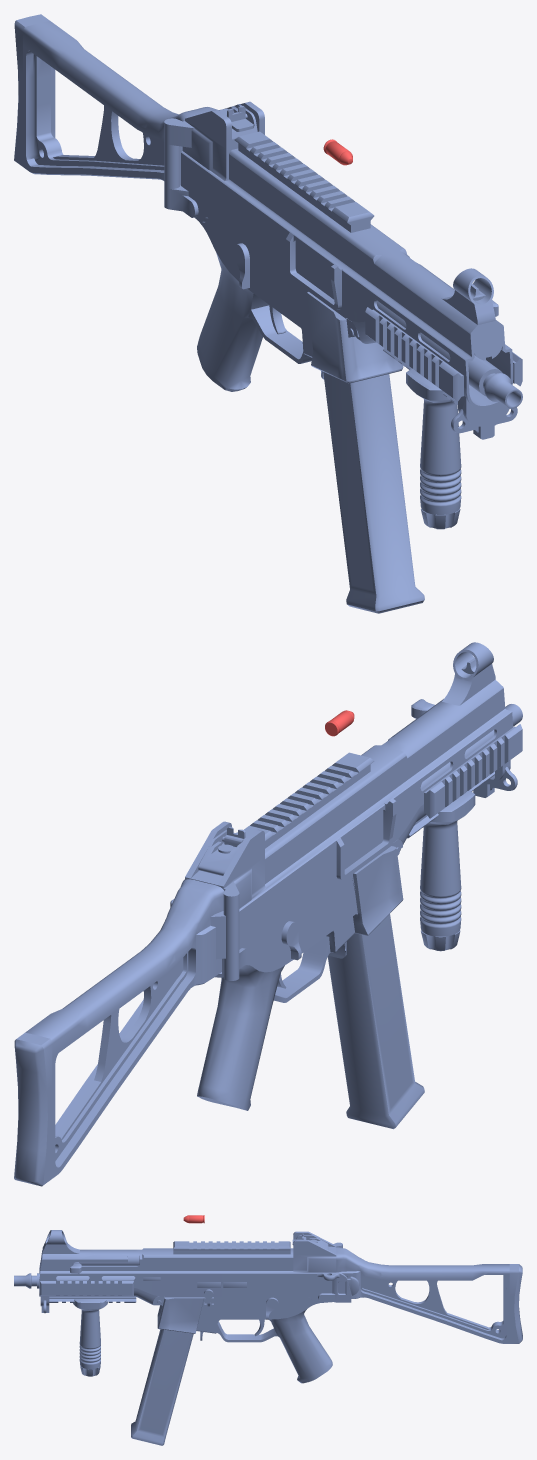
File: WPN_UMP.FBX
3 views of the same model, one above another, from view 1: azimuth 30°, elevation 25°; view 2: azimuth 150°, elevation 25°; view 3: azimuth 270°, elevation 25° (orthographic). The views are drawn at different scales.
Parts seen in each view (by area): view 1: WPN_UMP, WPN_UMP_magazine, WPN_UMP_foregrip, WPN_UMP_bolt; view 2: WPN_UMP, WPN_UMP_magazine, WPN_UMP_foregrip, WPN_UMP_bolt; view 3: WPN_UMP, WPN_UMP_magazine, WPN_UMP_foregrip, WPN_UMP_charging_handle.
Boxes of the visible parts, x1,y1,x2,y2 form: WPN_UMP: (14,14,522,439); WPN_UMP_magazine: (323,372,424,613); WPN_UMP_foregrip: (406,368,461,529); WPN_UMP_bolt: (295,241,333,299); WPN_UMP: (14,642,522,1186); WPN_UMP_magazine: (327,914,424,1129); WPN_UMP_foregrip: (420,790,475,951); WPN_UMP_bolt: (342,810,383,869); WPN_UMP: (14,1230,522,1383); WPN_UMP_magazine: (131,1329,193,1445); WPN_UMP_foregrip: (73,1299,107,1376); WPN_UMP_charging_handle: (70,1255,139,1273).
Bounding box in the file's own units: 6.15 × 33.05 × 67.84.
